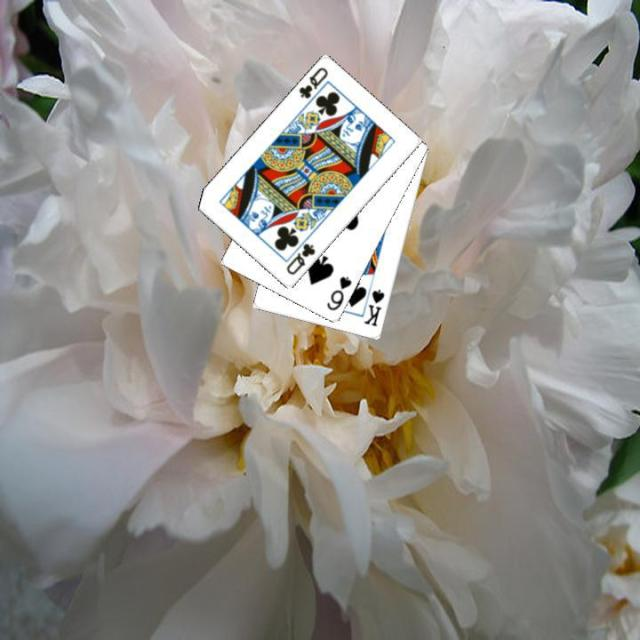6S: (322, 273, 353, 313)
KS: (360, 285, 387, 329)
QC: (282, 239, 317, 277), (295, 64, 330, 101)
